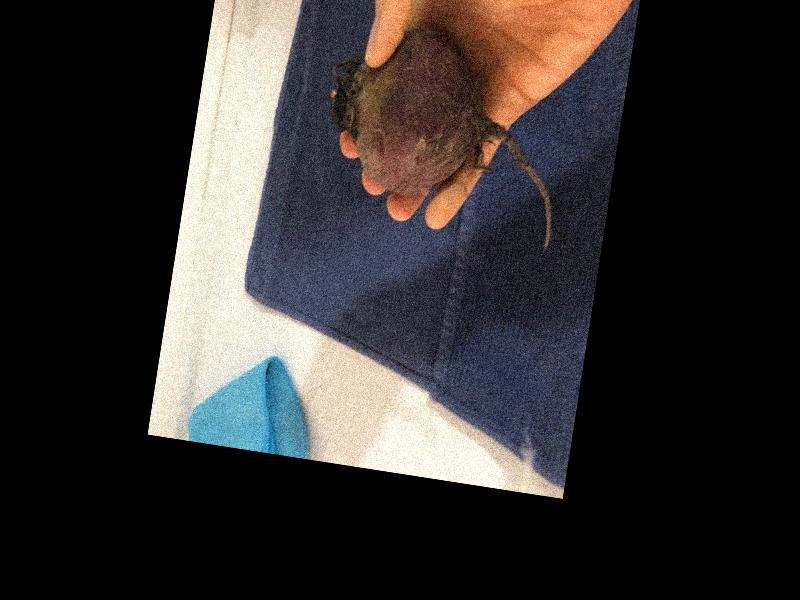Beet: (311, 12, 579, 254)
